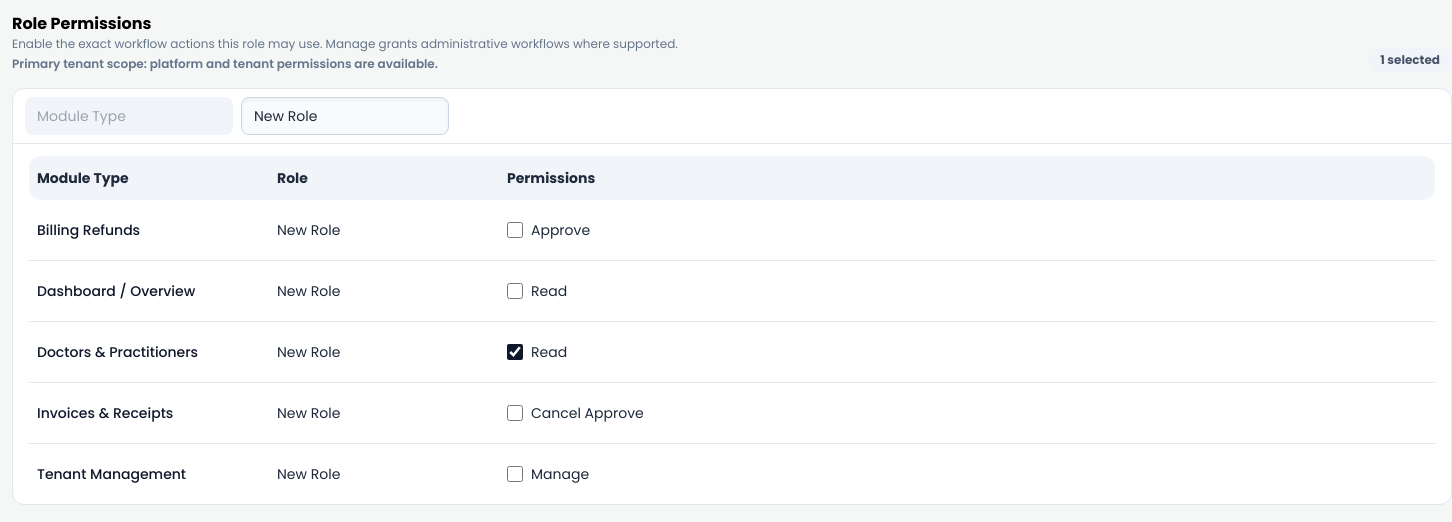
Scenario: Super Admin permission catalog › uses product module labels and updates the selected count
Expected: the text "Doctors & Practitioners" is shown, top-left (37, 342), bottom-right (198, 362)
Expected: the text "Dashboard / Overview" is shown, top-left (37, 281), bottom-right (195, 301)
Click the checkbox labelled "Manage" at (515, 474), box top-left (507, 466), bottom-right (523, 482)
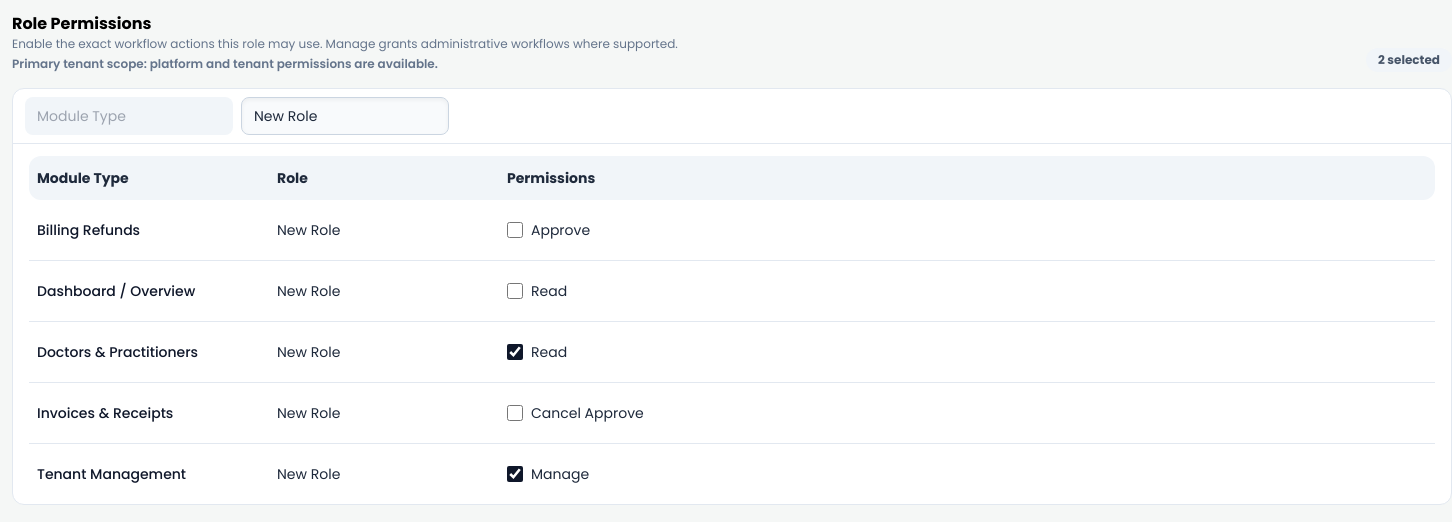
Now the text "2 selected" is shown, box top-left (1366, 48), bottom-right (1451, 72)
